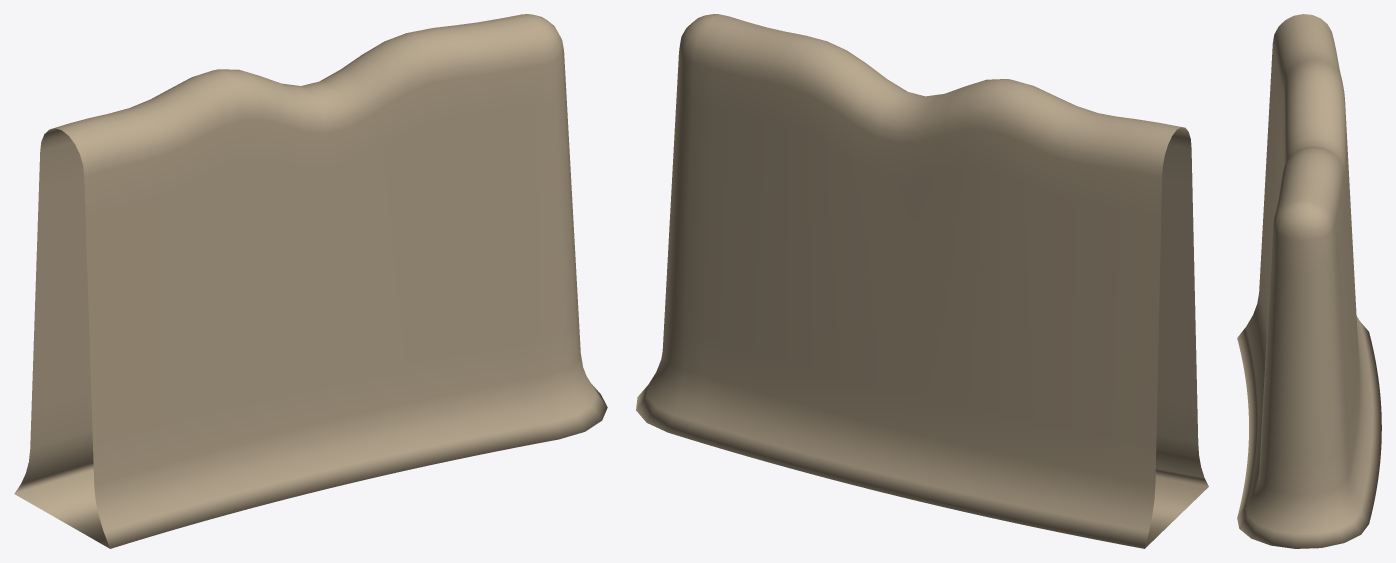
Rendered from KFB_Wall_curved_ring_r5_capA.r3.glb.
3 views of the same model, side by side, from view 1: azimuth 30°, elevation 25°; view 2: azimuth 150°, elevation 25°; view 3: azimuth 270°, elevation 25° (orthographic). The views are drawn at different scales.
Parts seen in each view (by area): view 1: KFB_Wall_curved_ring_r5_capA; view 2: KFB_Wall_curved_ring_r5_capA; view 3: KFB_Wall_curved_ring_r5_capA.
Boxes of the visible parts, x1,y1,x2,y2 form: KFB_Wall_curved_ring_r5_capA: (14,14,607,548); KFB_Wall_curved_ring_r5_capA: (636,14,1208,548); KFB_Wall_curved_ring_r5_capA: (1237,14,1381,548).
Size of the model in its own units: 5.22 by 3.72 by 1.47.
